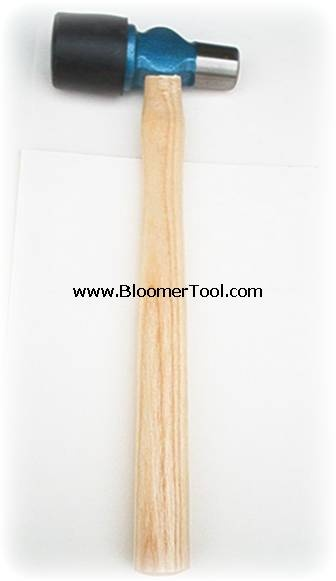hammer: (44, 13, 242, 572)
